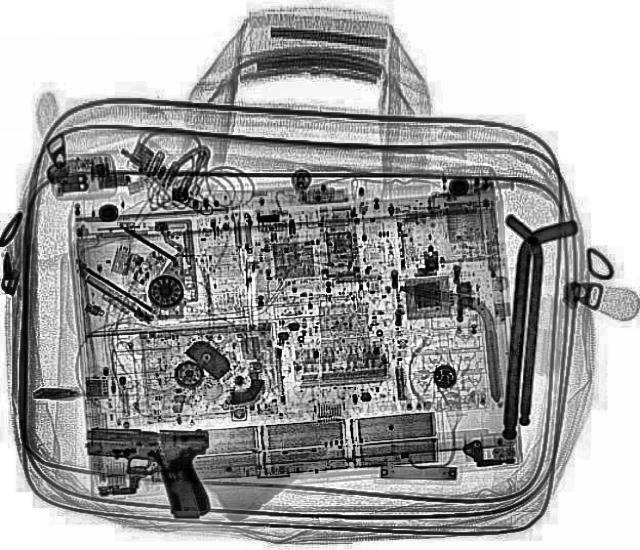Gun: (78, 424, 212, 518)
